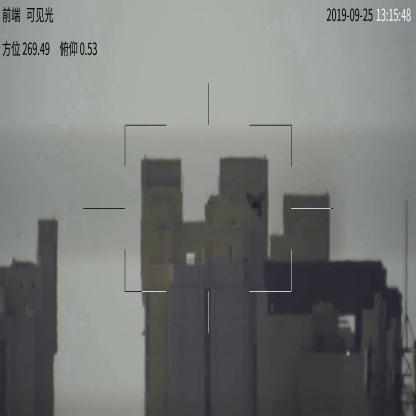uav: (246, 190, 267, 214)
